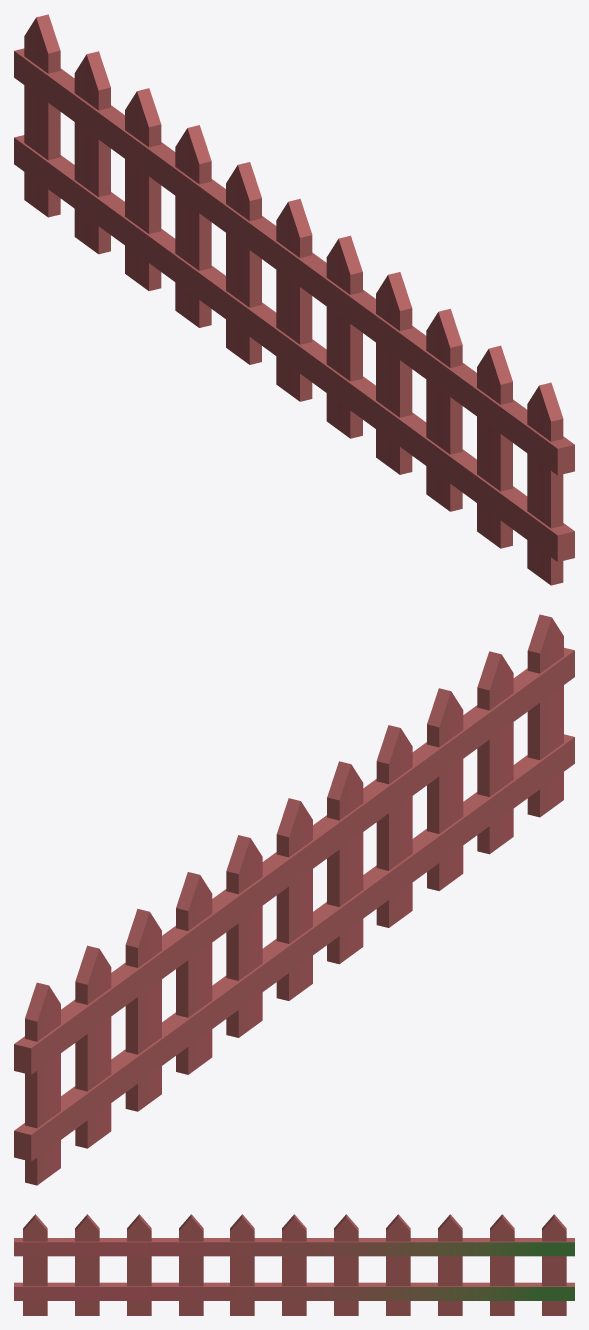
The model's file is Backyard_Fence.fbx.
The picture shows the model from 3 angles, top to bottom: view 1: azimuth 30°, elevation 25°; view 2: azimuth 150°, elevation 25°; view 3: azimuth 270°, elevation 25°; orthographic projection. The views are drawn at different scales.
Visible parts, largest first — view 1: Backyard_Fence; view 2: Backyard_Fence; view 3: Backyard_Fence.
Boxes of the visible parts, bbox=[...] form: Backyard_Fence: bbox=[14, 14, 574, 585]; Backyard_Fence: bbox=[14, 614, 574, 1185]; Backyard_Fence: bbox=[14, 1214, 574, 1315].
Bounding box in the file's own units: 8.45 × 89.73 × 462.
